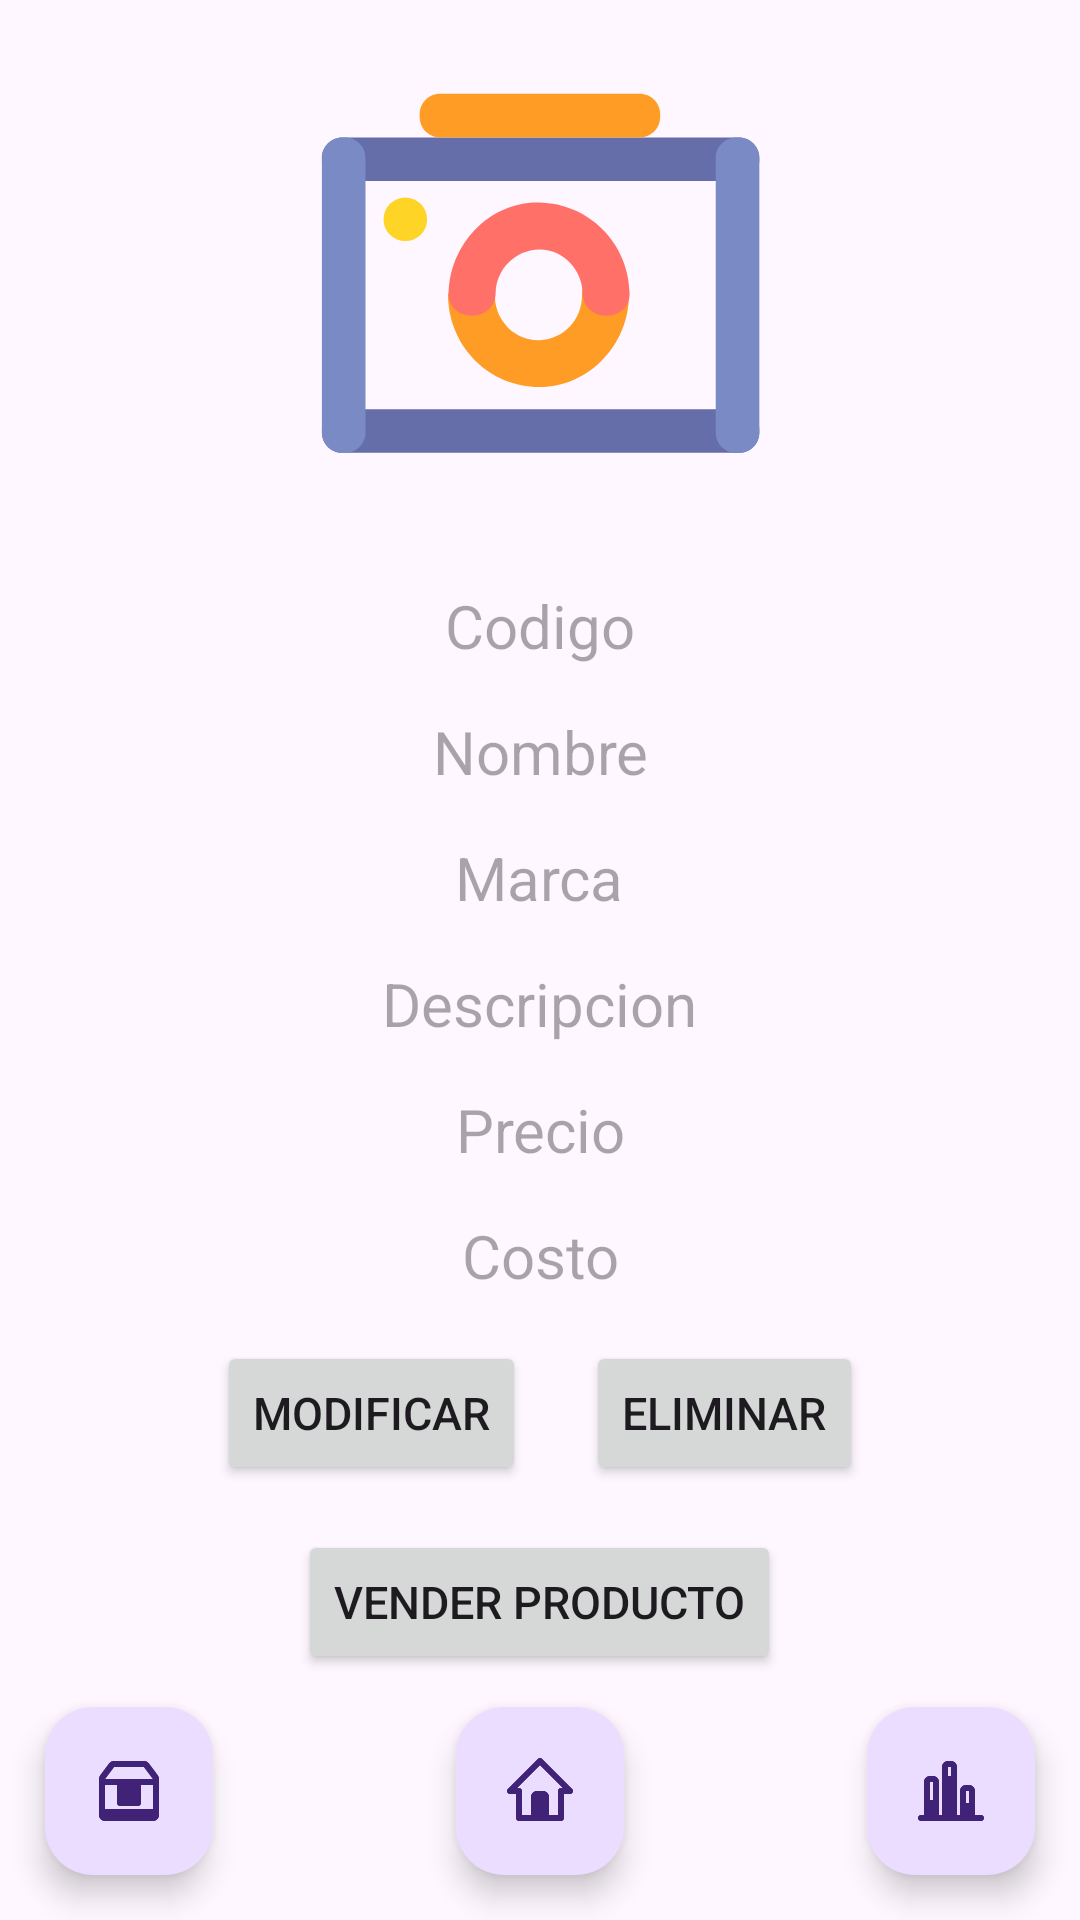

Screen size 1080×1920. Icon name, then its box in pixels as (x1, y1, x2, y2):
manage bar: (867, 1707, 1035, 1875)
manage box: (45, 1707, 213, 1875)
manage home: (456, 1707, 624, 1875)
